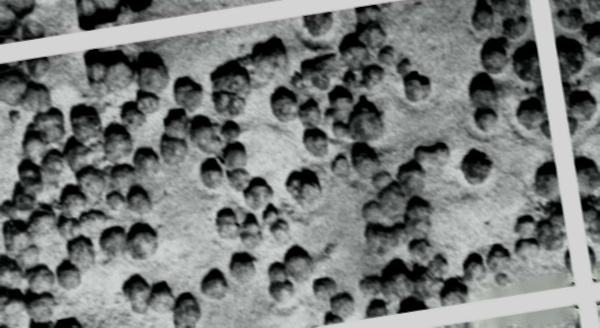halobolite: (81, 38, 138, 98), (249, 34, 291, 90), (298, 11, 342, 57), (346, 48, 391, 86), (410, 133, 455, 171), (122, 273, 154, 317), (126, 218, 157, 263), (26, 201, 64, 237), (370, 187, 405, 226), (115, 124, 148, 165), (401, 260, 434, 301), (563, 66, 591, 113), (133, 51, 169, 87), (170, 289, 203, 328), (81, 103, 113, 143), (569, 150, 600, 191), (78, 59, 112, 96), (126, 185, 159, 223), (198, 263, 230, 302), (229, 244, 260, 284), (22, 122, 52, 162), (530, 59, 561, 97), (411, 185, 439, 227), (220, 55, 250, 94), (393, 46, 423, 85), (325, 157, 358, 192), (513, 90, 545, 126), (133, 83, 164, 120), (114, 95, 144, 133), (200, 105, 233, 139), (286, 244, 319, 278), (555, 10, 587, 45), (393, 152, 423, 189), (537, 157, 563, 199), (460, 151, 496, 181), (499, 11, 533, 42), (9, 177, 36, 215), (1, 253, 34, 284), (481, 34, 507, 73), (287, 164, 317, 197), (171, 112, 200, 146), (269, 85, 298, 119), (31, 106, 61, 138), (60, 181, 88, 215), (7, 217, 35, 251), (318, 76, 346, 110), (343, 92, 371, 125), (468, 3, 501, 31), (240, 212, 267, 246), (18, 16, 48, 46), (529, 18, 554, 54), (78, 34, 107, 65), (99, 227, 128, 258), (244, 183, 268, 220), (566, 190, 590, 227), (75, 207, 104, 237), (302, 129, 332, 158), (2, 76, 33, 104), (1, 290, 33, 317), (55, 261, 87, 288), (267, 194, 291, 230), (62, 139, 89, 170), (542, 213, 565, 249), (177, 74, 202, 107), (267, 280, 300, 305), (467, 71, 492, 104), (346, 121, 370, 155), (514, 235, 544, 262), (64, 238, 96, 263), (198, 161, 226, 189), (403, 71, 431, 99), (357, 11, 386, 38), (27, 83, 56, 110), (223, 139, 248, 170), (375, 83, 406, 108), (212, 207, 237, 238), (298, 96, 322, 128), (207, 81, 233, 110), (151, 280, 174, 312), (558, 40, 585, 67), (474, 106, 501, 133), (378, 272, 404, 300), (443, 282, 472, 307), (328, 292, 358, 316), (79, 2, 110, 25), (488, 245, 511, 276), (25, 264, 51, 291), (159, 131, 181, 162), (106, 162, 136, 184), (103, 186, 127, 213), (311, 275, 339, 297), (134, 149, 159, 172), (468, 254, 489, 281), (265, 260, 291, 281), (1, 9, 16, 44), (510, 214, 537, 233), (379, 298, 403, 319), (4, 1, 38, 15), (367, 152, 388, 173), (324, 309, 343, 327)
